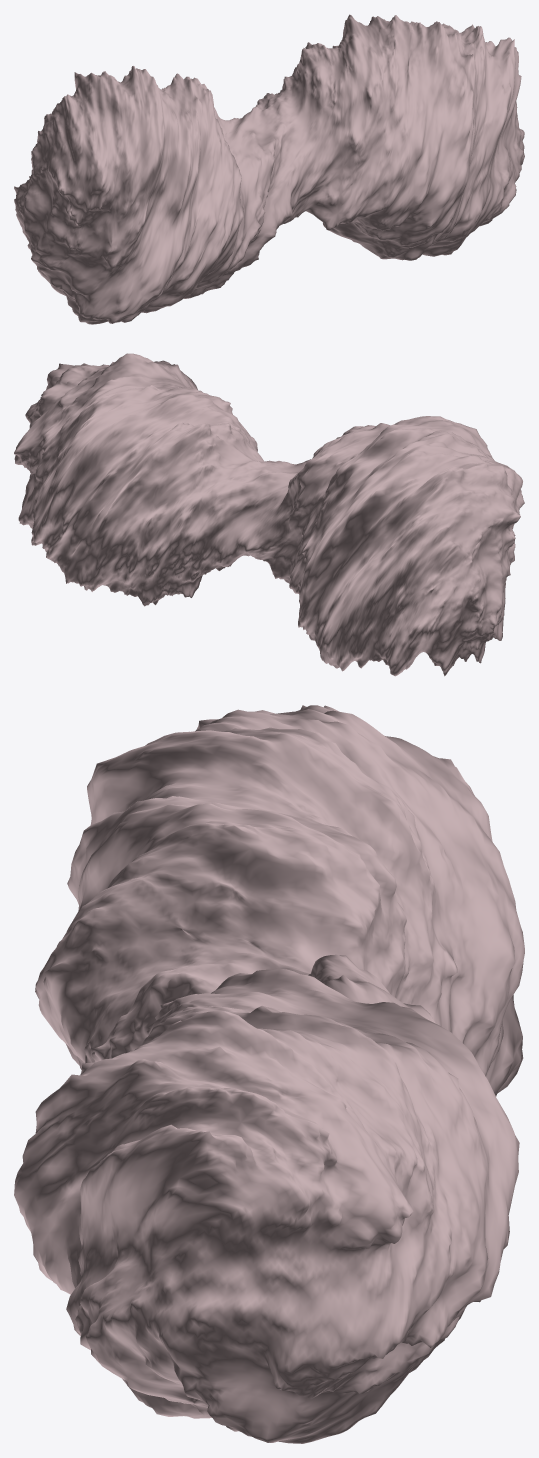
The model's file is Swirl.glb.
The picture shows the model from 3 angles, top to bottom: view 1: azimuth 30°, elevation 25°; view 2: azimuth 150°, elevation 25°; view 3: azimuth 270°, elevation 25°; orthographic projection. The views are drawn at different scales.
Visible parts, largest first — view 1: croc.001; view 2: croc.001; view 3: croc.001.
Part boxes in pixels (bbox=[...]): croc.001: bbox=[14, 14, 524, 324]; croc.001: bbox=[14, 353, 524, 676]; croc.001: bbox=[14, 705, 524, 1443].
Bounding box in the file's own units: 11.11 × 5.43 × 5.55.
